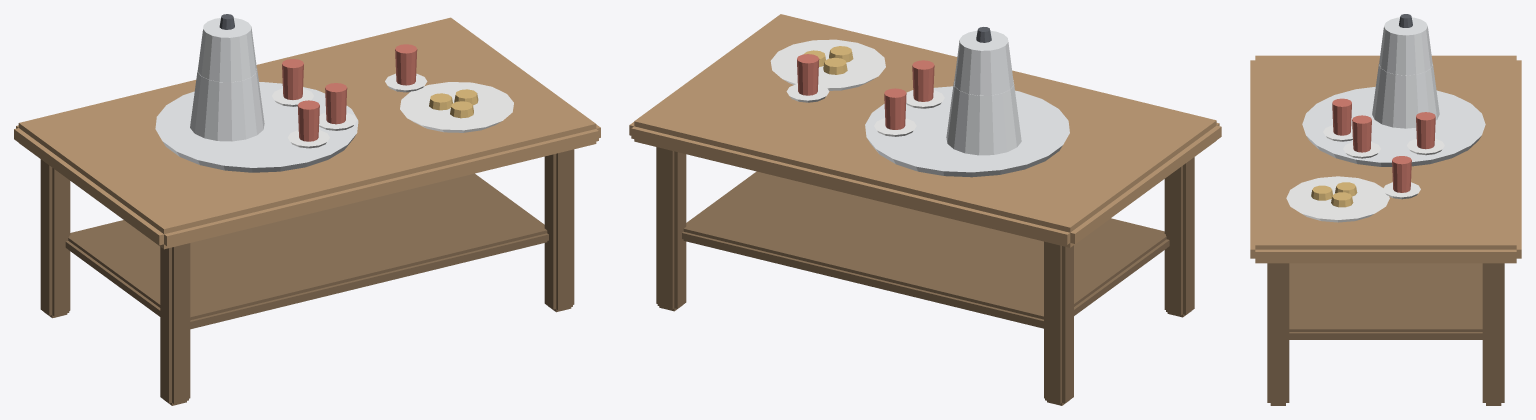
The model's file is Interior_TurkishTeaTable.fbx.
The picture shows the model from 3 angles, left to right: view 1: azimuth 30°, elevation 25°; view 2: azimuth 150°, elevation 25°; view 3: azimuth 270°, elevation 25°; orthographic projection. The views are drawn at different scales.
Visible parts, largest first — view 1: Interior_TurkishTeaTable; view 2: Interior_TurkishTeaTable; view 3: Interior_TurkishTeaTable.
Boxes of the visible parts, x1,y1,x2,y2 form: Interior_TurkishTeaTable: [14, 14, 600, 405]; Interior_TurkishTeaTable: [629, 14, 1221, 405]; Interior_TurkishTeaTable: [1250, 14, 1521, 405].
Size of the model in its own units: 1.15 by 0.7525 by 0.68.
